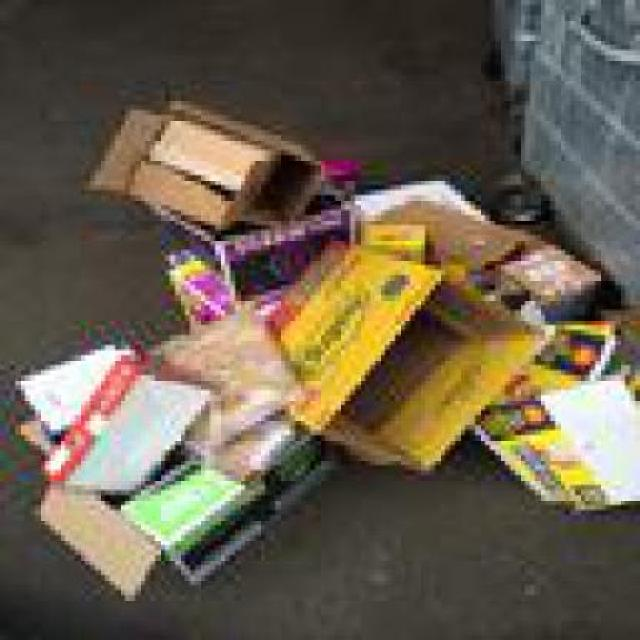CARDBOARD: (170, 175, 605, 370), (280, 240, 555, 471), (131, 411, 340, 580), (90, 90, 330, 225), (380, 200, 605, 320), (50, 354, 215, 494), (480, 365, 638, 506), (150, 306, 305, 446), (20, 330, 145, 450), (44, 485, 164, 590), (370, 195, 530, 270), (546, 315, 634, 370)
